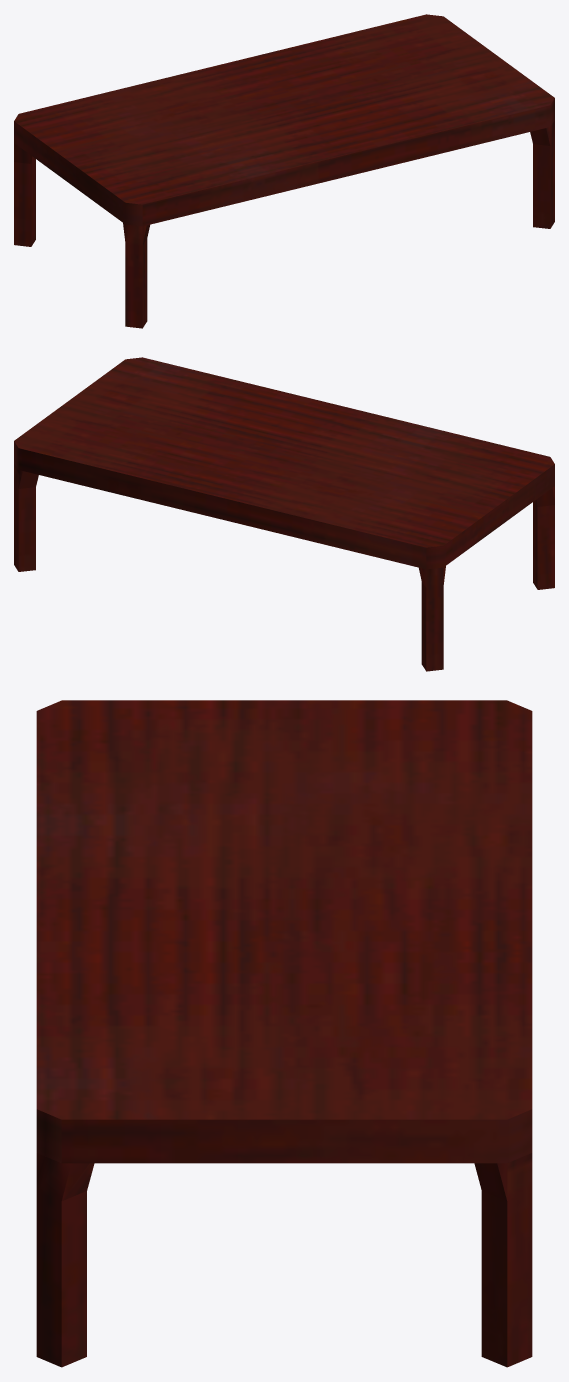
The picture shows the model from 3 angles, top to bottom: view 1: azimuth 30°, elevation 25°; view 2: azimuth 150°, elevation 25°; view 3: azimuth 270°, elevation 25°; orthographic projection. The views are drawn at different scales.
Visible parts, largest first — view 1: Lo-htxxqwa_01; view 2: Lo-htxxqwa_01; view 3: Lo-htxxqwa_01.
Part boxes in pixels (left/top/right/bottom): Lo-htxxqwa_01: left=14, top=14, right=554, bottom=328; Lo-htxxqwa_01: left=14, top=357, right=554, bottom=671; Lo-htxxqwa_01: left=36, top=700, right=532, bottom=1367.
Bounding box in the file's own units: 1.2 × 0.3308 × 0.6001.
Materials: 1 (1 with a texture image).
